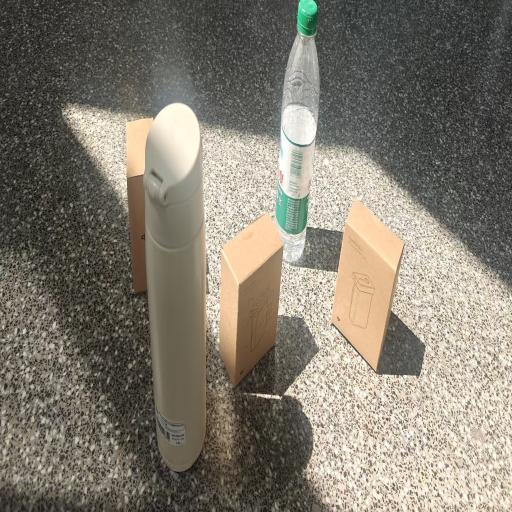bottle: (143, 102, 207, 471), (275, 0, 320, 262)
box: (331, 198, 404, 371), (220, 214, 283, 382), (126, 118, 153, 293)
